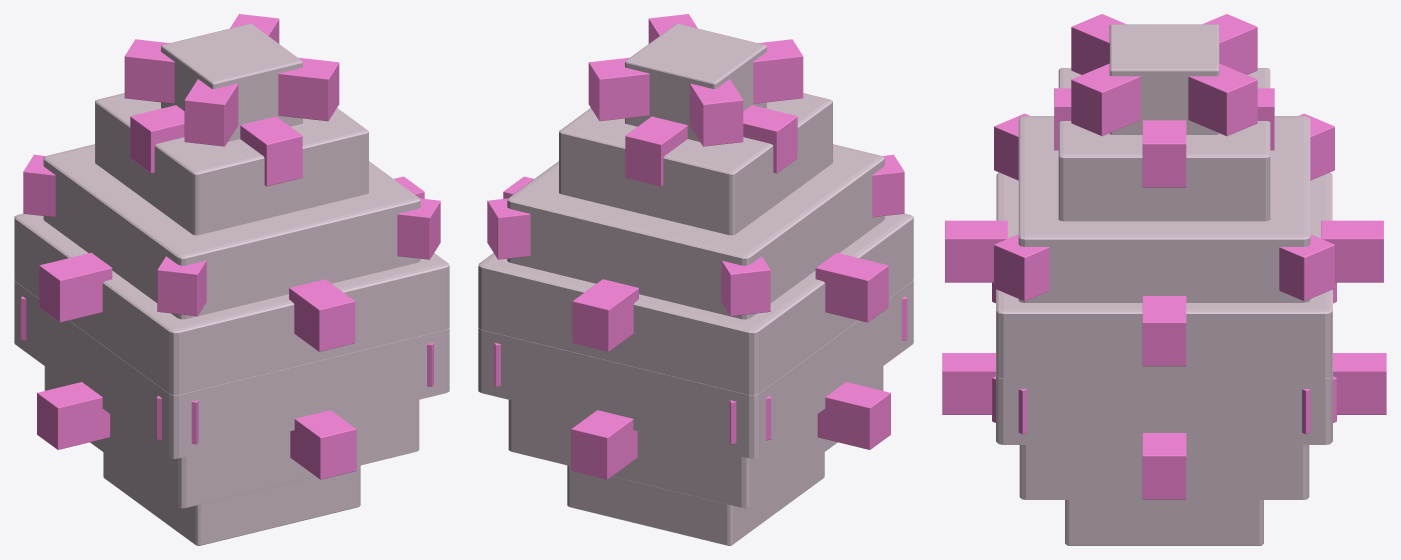
File: egg-event.glb
3 renders of one model, left to right at view 1: azimuth 30°, elevation 25°; view 2: azimuth 150°, elevation 25°; view 3: azimuth 270°, elevation 25°, orthographic. The views are drawn at different scales.
Parts seen in each view (by area): view 1: body; view 2: body; view 3: body.
Boxes of the visible parts, bbox=[...] form: body: bbox=[14, 14, 449, 545]; body: bbox=[478, 14, 913, 545]; body: bbox=[942, 14, 1386, 545].
Bounding box in the file's own units: 0.8792 × 1 × 0.8792.
